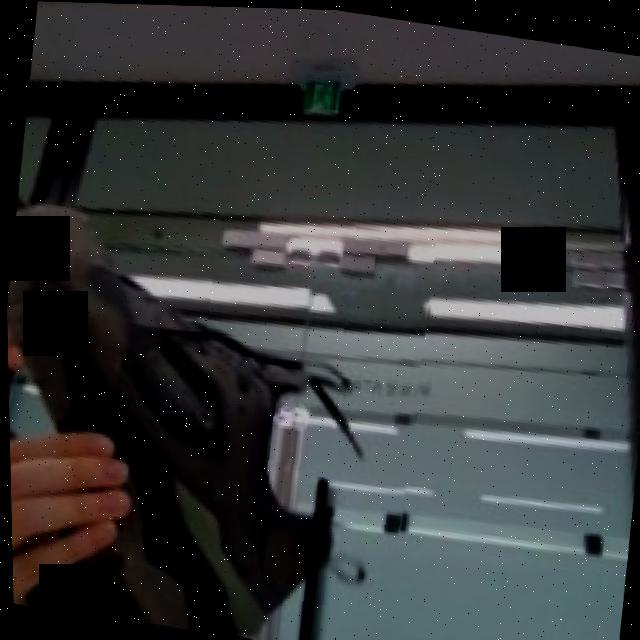shoe: (3, 171, 442, 640)
